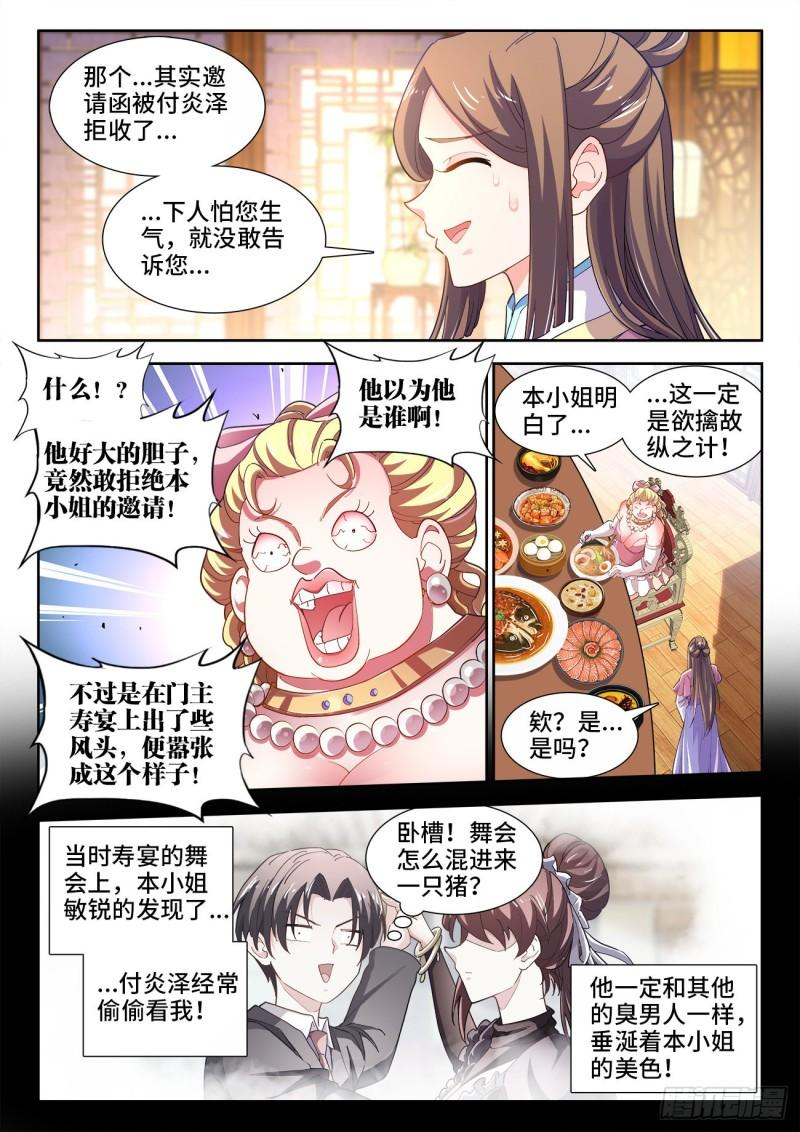boxBomb: (21, 631, 258, 820), (21, 425, 222, 565), (321, 338, 498, 476), (6, 341, 150, 422)
boxCube: (570, 961, 759, 1096), (45, 826, 231, 955), (78, 955, 249, 1057)
boxEllipse: (96, 164, 336, 311), (48, 35, 267, 173), (627, 362, 759, 479), (501, 688, 657, 778), (492, 365, 627, 467)
boxThink: (363, 805, 540, 919)
minBox: (33, 26, 765, 344), (33, 796, 765, 1105), (27, 356, 486, 796), (480, 353, 768, 784)
